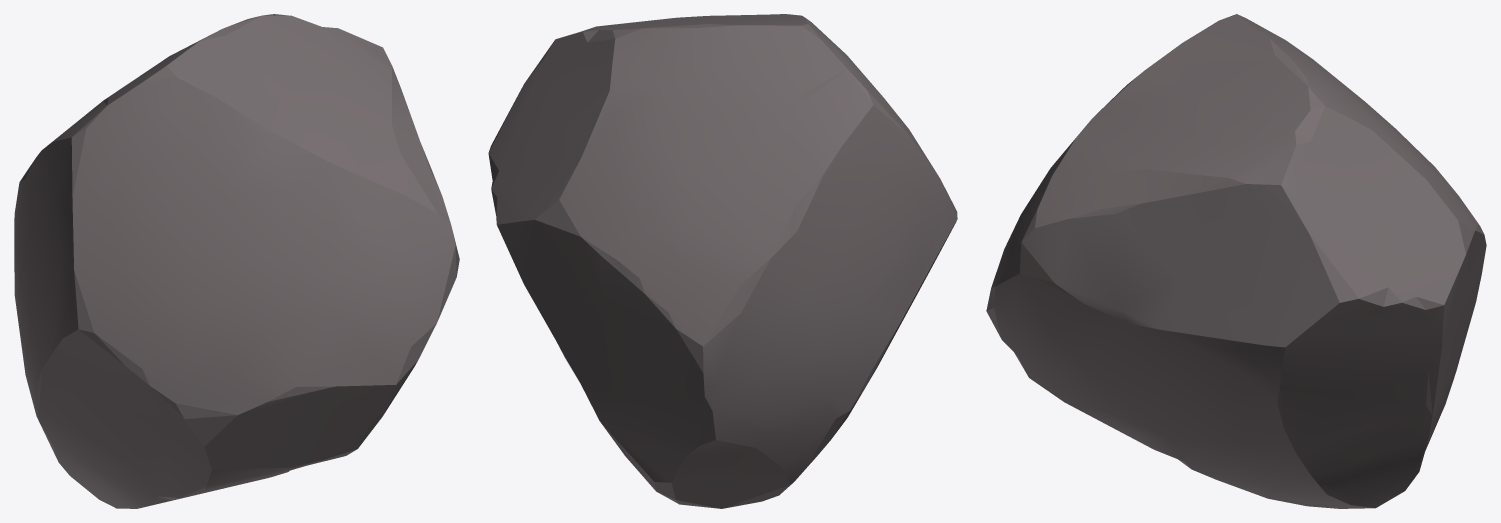
The model's file is Rock2.fbx.
The picture shows the model from 3 angles, left to right: view 1: azimuth 30°, elevation 25°; view 2: azimuth 150°, elevation 25°; view 3: azimuth 270°, elevation 25°; orthographic projection. The views are drawn at different scales.
Parts seen in each view (by area): view 1: GeoSphere001; view 2: GeoSphere001; view 3: GeoSphere001.
Part boxes in pixels (x1=…): GeoSphere001: x1=14, y1=14, x2=459, y2=508; GeoSphere001: x1=488, y1=14, x2=957, y2=508; GeoSphere001: x1=986, y1=14, x2=1486, y2=508.
Size of the model in its own units: 19.42 by 22 by 21.11.
Materials: 1 (1 with a texture image).
